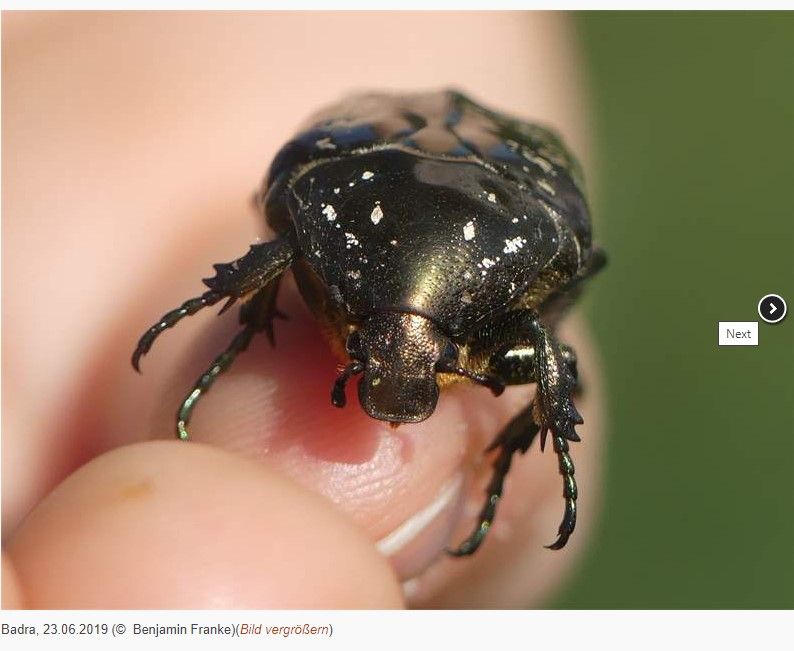Protaetia_lugubris: (128, 74, 608, 568)
